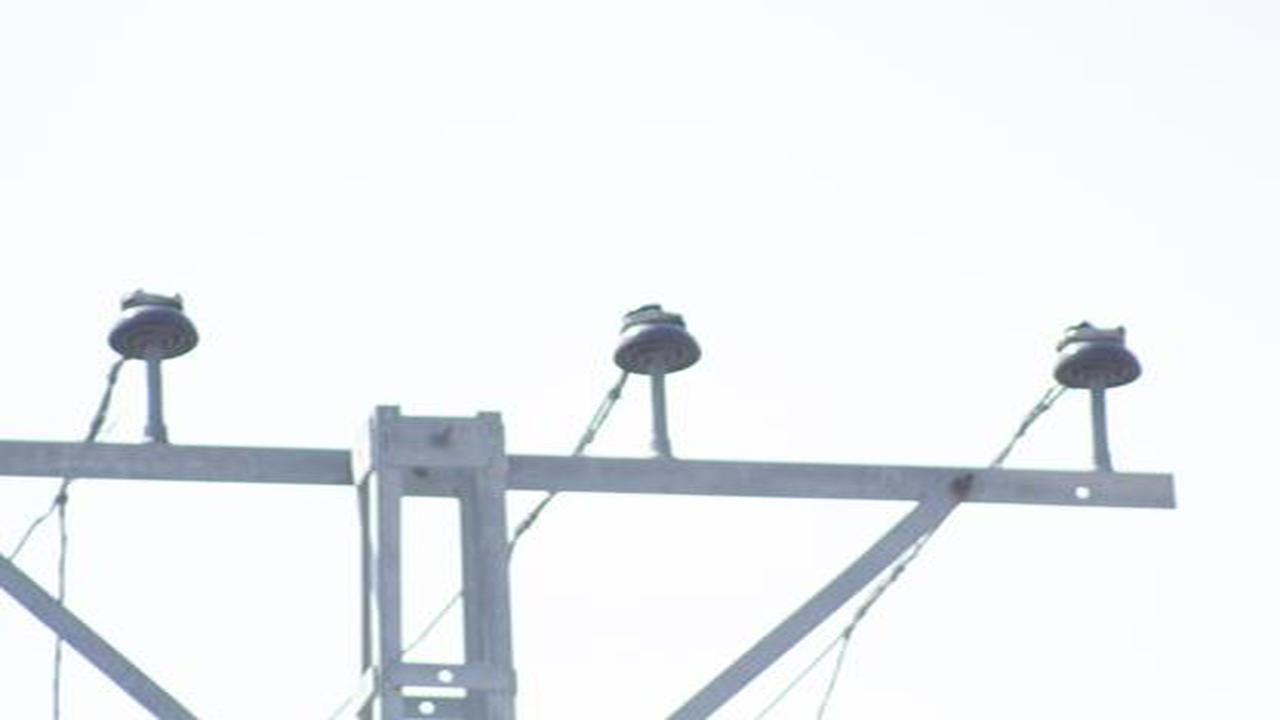insulator_pin: (604, 303, 705, 384), (1048, 318, 1146, 398), (105, 284, 201, 365)
